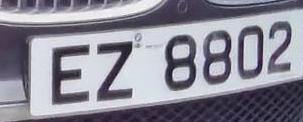0: (231, 17, 268, 86)
2: (262, 12, 303, 79)
8: (159, 30, 200, 94), (198, 26, 236, 87)
E: (46, 39, 92, 111)
Z: (92, 36, 142, 106)
